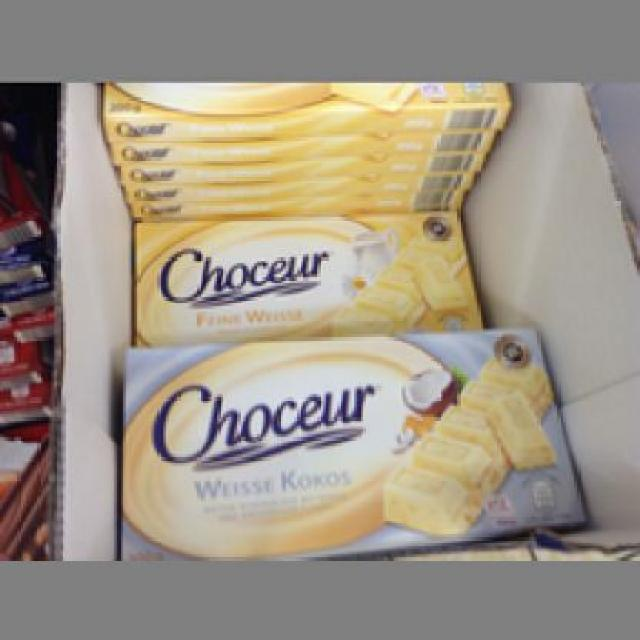Chocolate: (115, 323, 594, 557), (126, 206, 488, 346)
